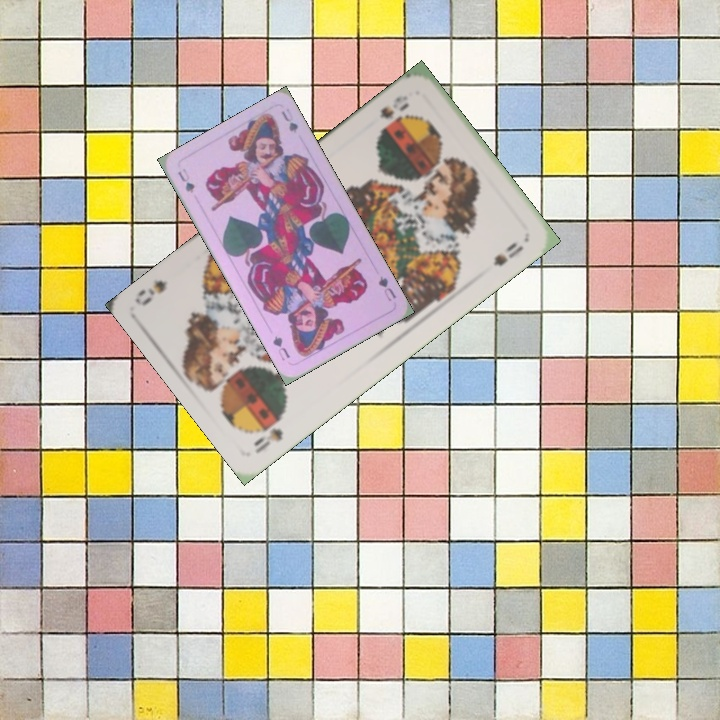GU: (374, 272, 399, 304), (174, 164, 197, 196)
SO: (249, 423, 286, 456), (375, 91, 412, 122)
